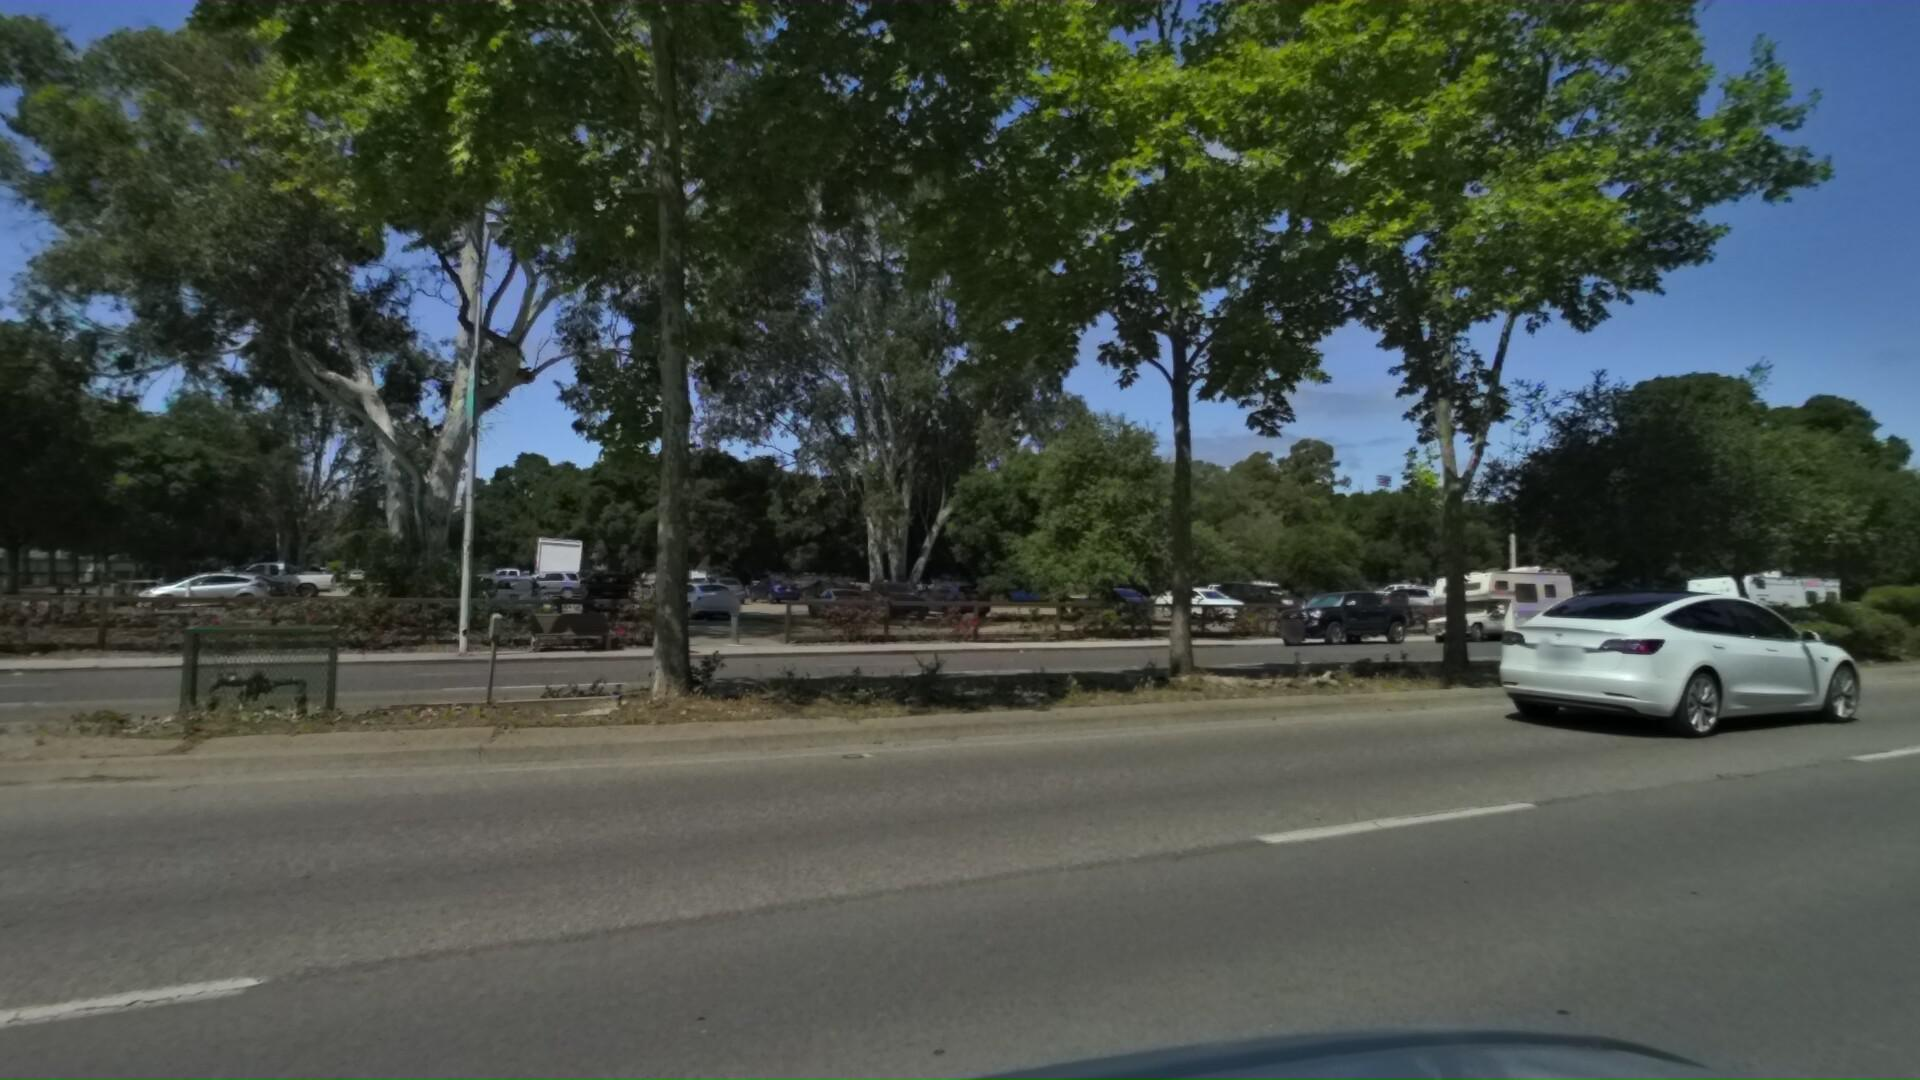car: (1482, 576, 1894, 752), (1242, 582, 1407, 645), (1575, 582, 1710, 637)
other_vehicle: (1385, 553, 1567, 651), (1650, 558, 1832, 647)
